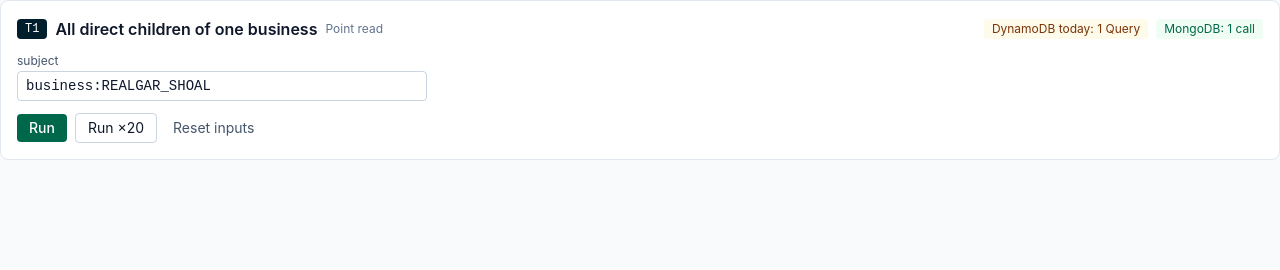
Test: QueryCard › runs with edited inputs and shows the ideal-answer comparison
The width and height of the screenshot is (1280, 270).
Replace the text in the field labelled "subject" with "business:WADI" at (222, 86), box [17,71,427,101]
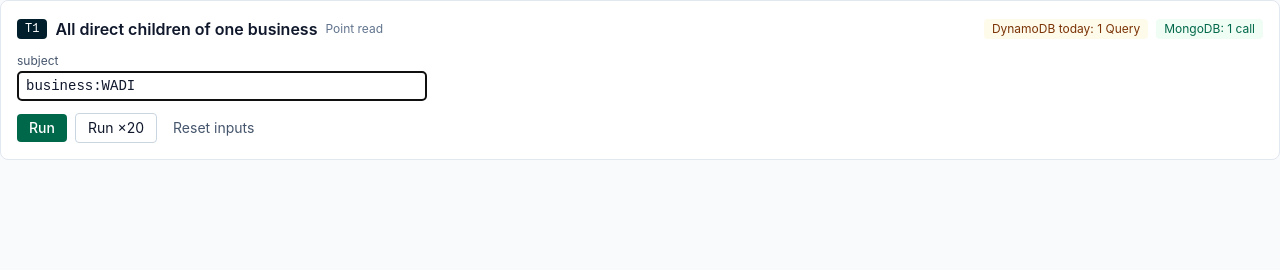
Click the button "Run" at (42, 128), box [17,114,67,142]
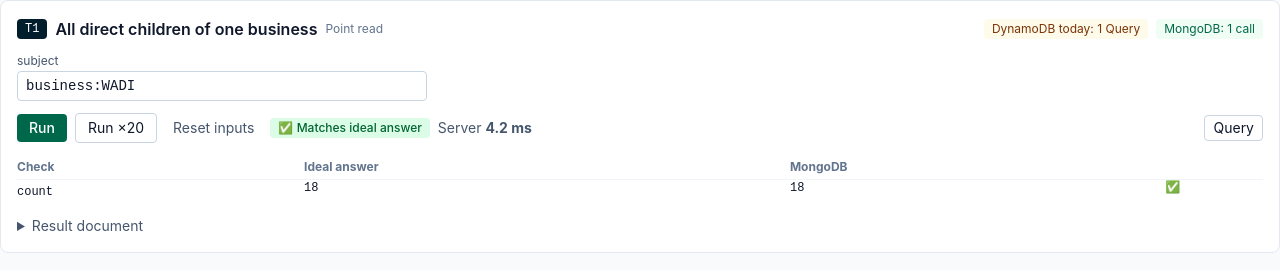
Expected: the text "DynamoDB today: 1 Query" is shown, [984,19,1148,39]
Expected: the text "✅ Matches ideal answer" is shown, [270,118,430,138]
